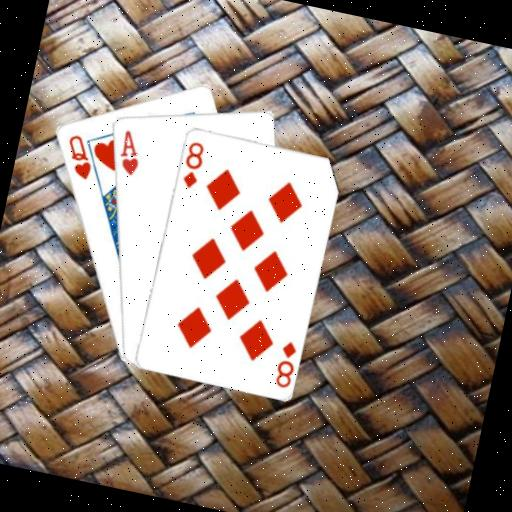8D: (177, 137, 208, 191), (270, 336, 300, 390)
AH: (112, 126, 146, 178)
QH: (57, 129, 99, 182)
